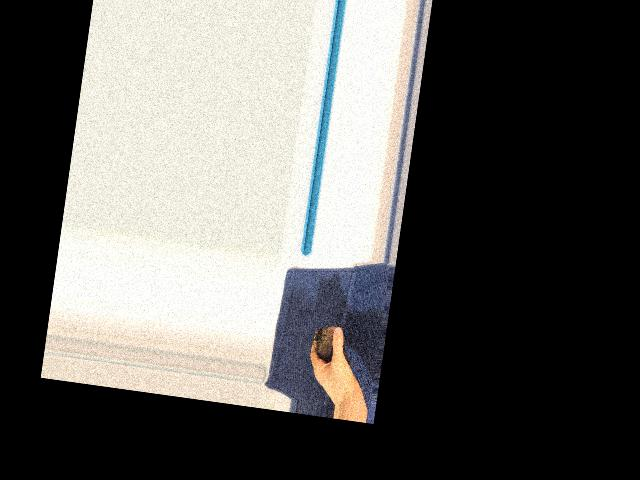beet: (311, 323, 359, 365)
